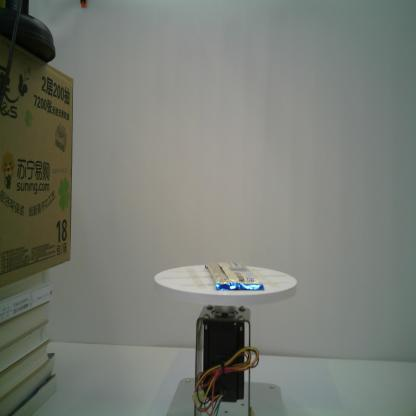Chocolate: (203, 258, 266, 293)
